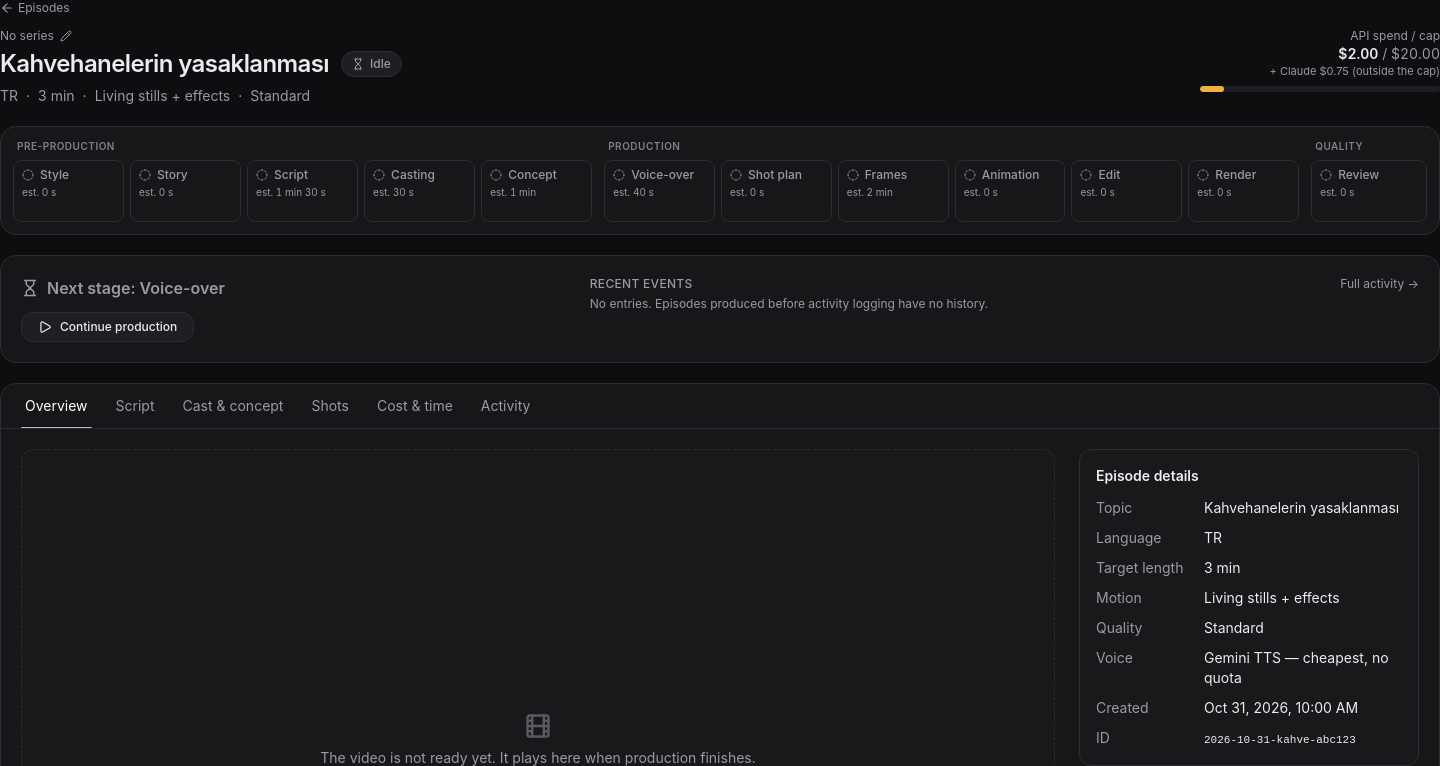
Scenario: EpisodeView: eylem hataları › bilinen sunucu hatası sözlükten çevrilir (İngilizce)
Expected: the navigation bar is shown, [1, 384, 1439, 429]
Click the button "Continue production". click: (108, 327)
box: [21, 312, 194, 342]
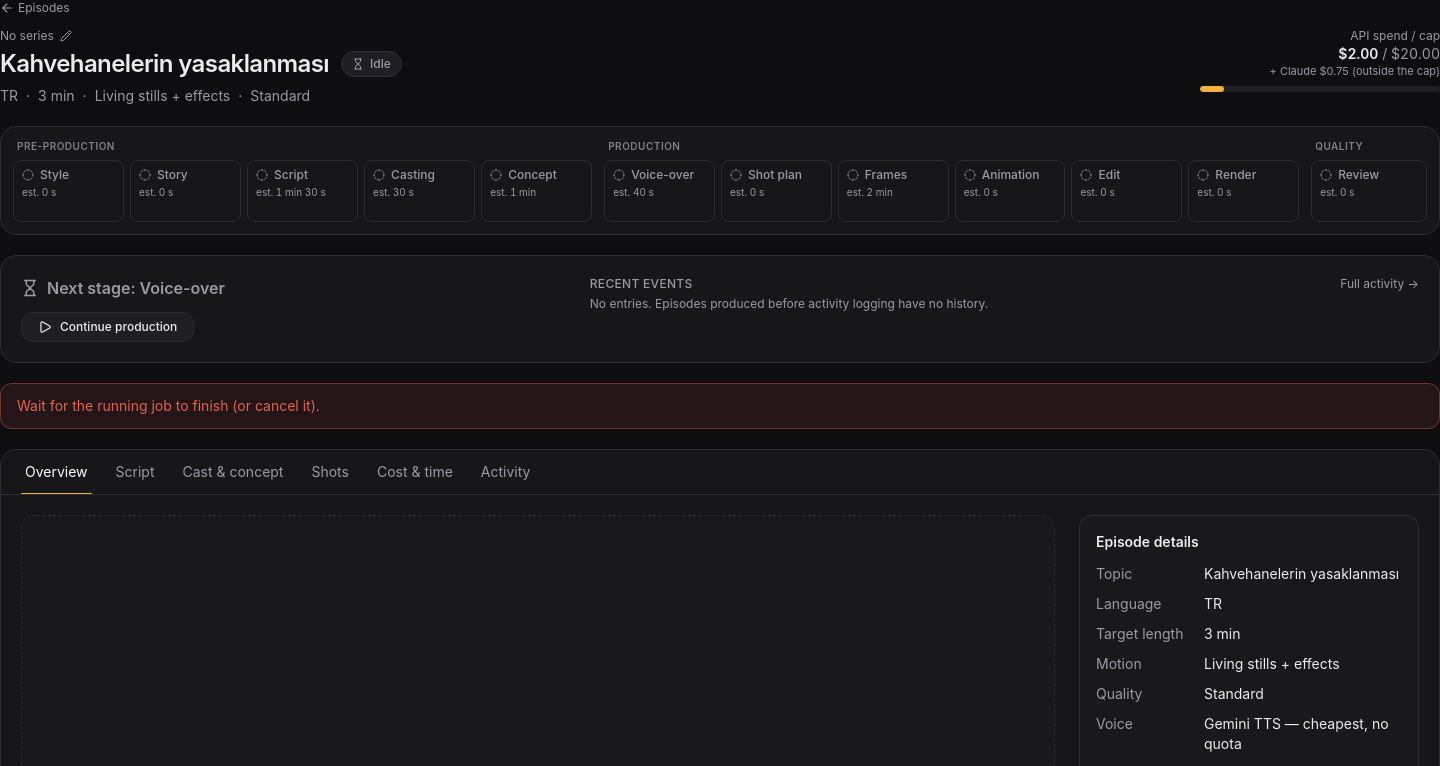
Expected: the text "Wait for the running job to finish (or cancel it)." is shown, [0, 383, 1439, 429]
